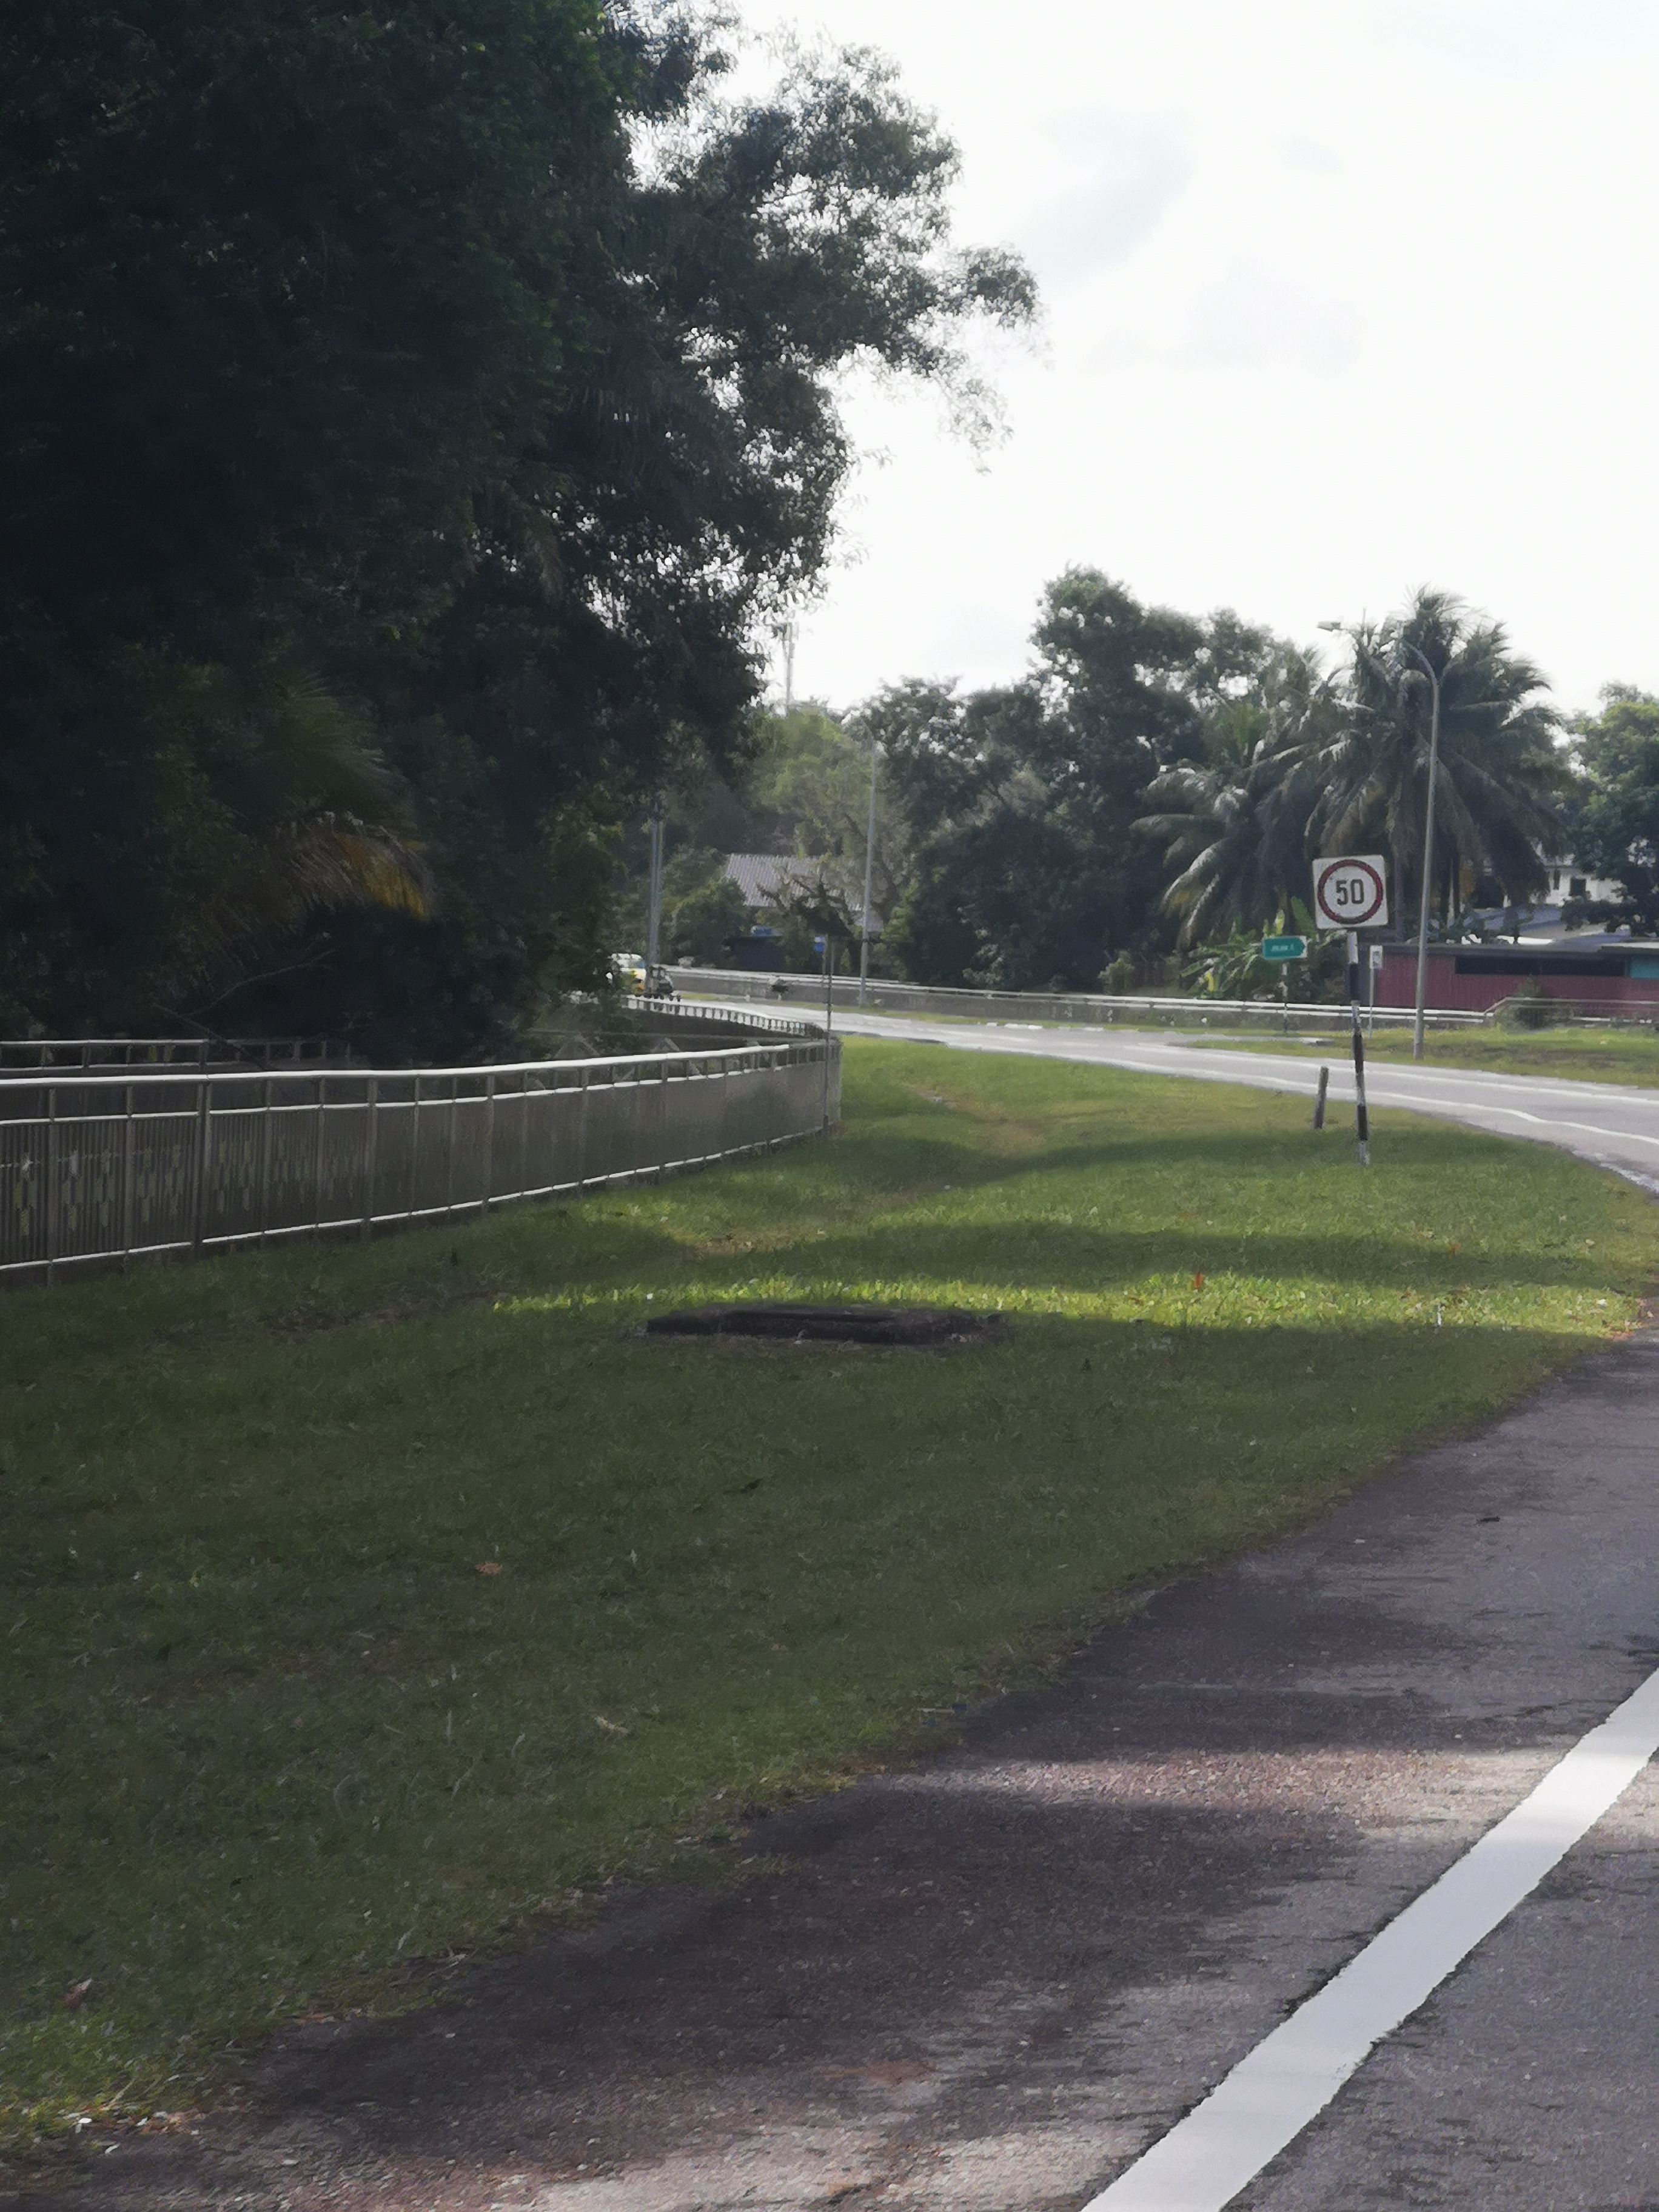speed limit 50: (1307, 853, 1394, 939)
